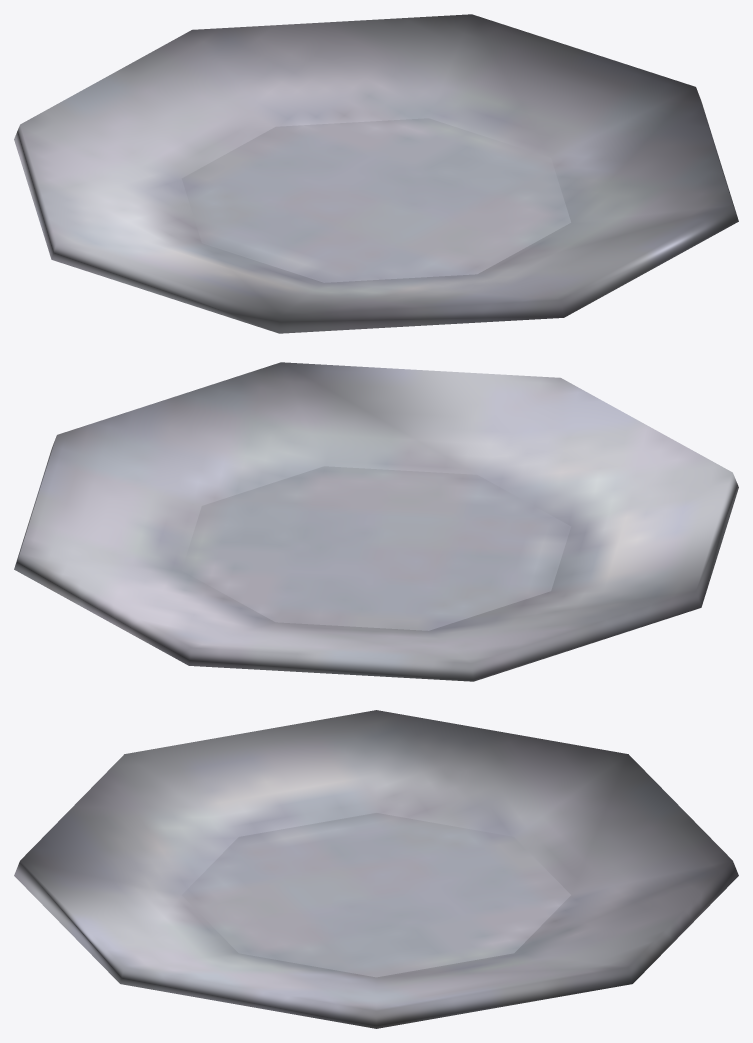
Rendered from Prop_JbPz01.glb.
The picture shows the model from 3 angles, top to bottom: view 1: azimuth 30°, elevation 25°; view 2: azimuth 150°, elevation 25°; view 3: azimuth 270°, elevation 25°; orthographic projection. The views are drawn at different scales.
Parts seen in each view (by area): view 1: xiutz_jb_pz_01; view 2: xiutz_jb_pz_01; view 3: xiutz_jb_pz_01.
Part boxes in pixels (x1=…): xiutz_jb_pz_01: x1=14, y1=14, x2=738, y2=333; xiutz_jb_pz_01: x1=14, y1=362, x2=738, y2=681; xiutz_jb_pz_01: x1=14, y1=710, x2=738, y2=1028.
Size of the model in its own units: 0.4282 by 0.0323 by 0.4282.
Materials: 1 (1 with a texture image).
